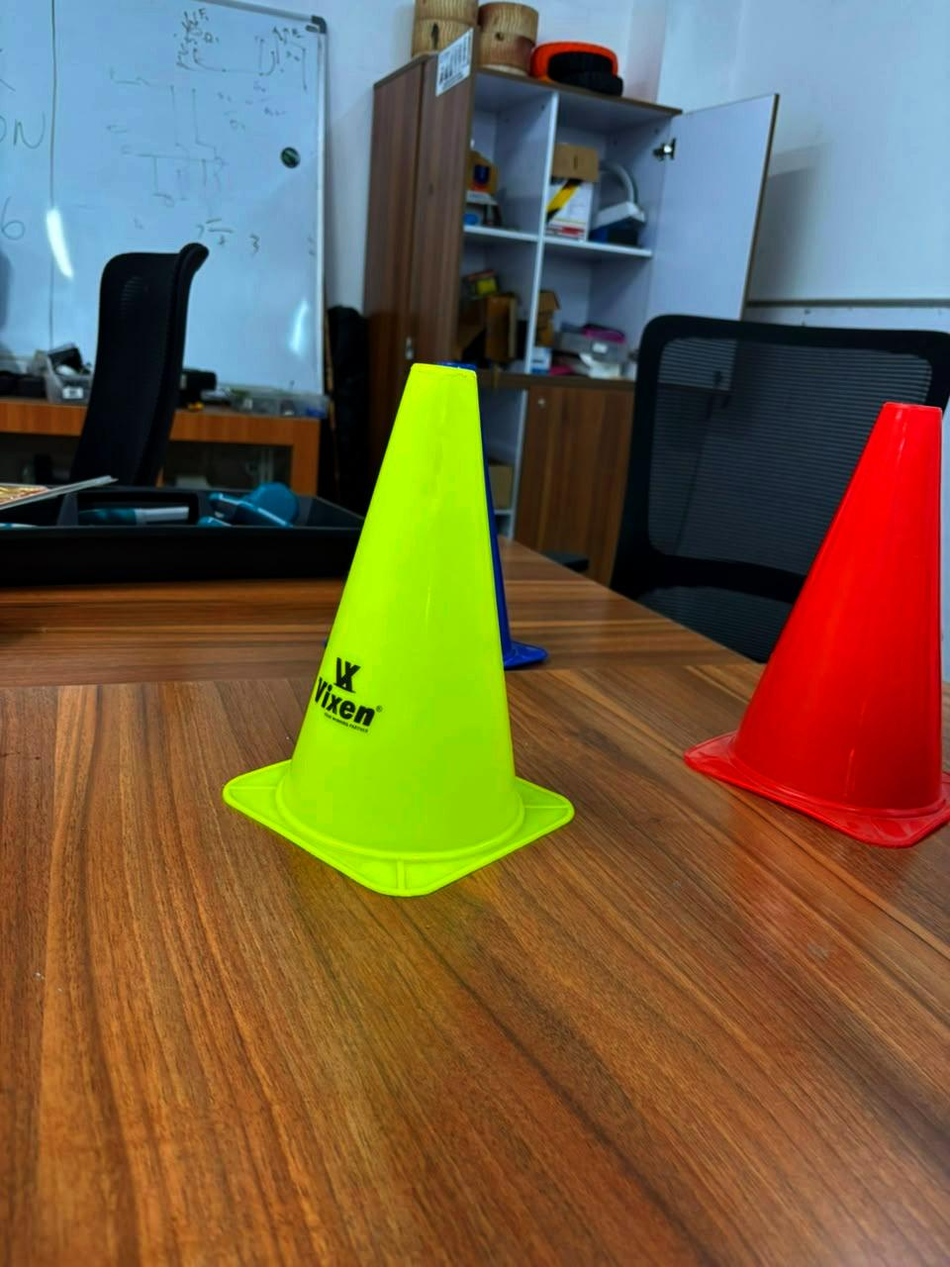0 cone: (223, 364, 572, 897), (685, 403, 949, 845), (302, 479, 503, 826)
